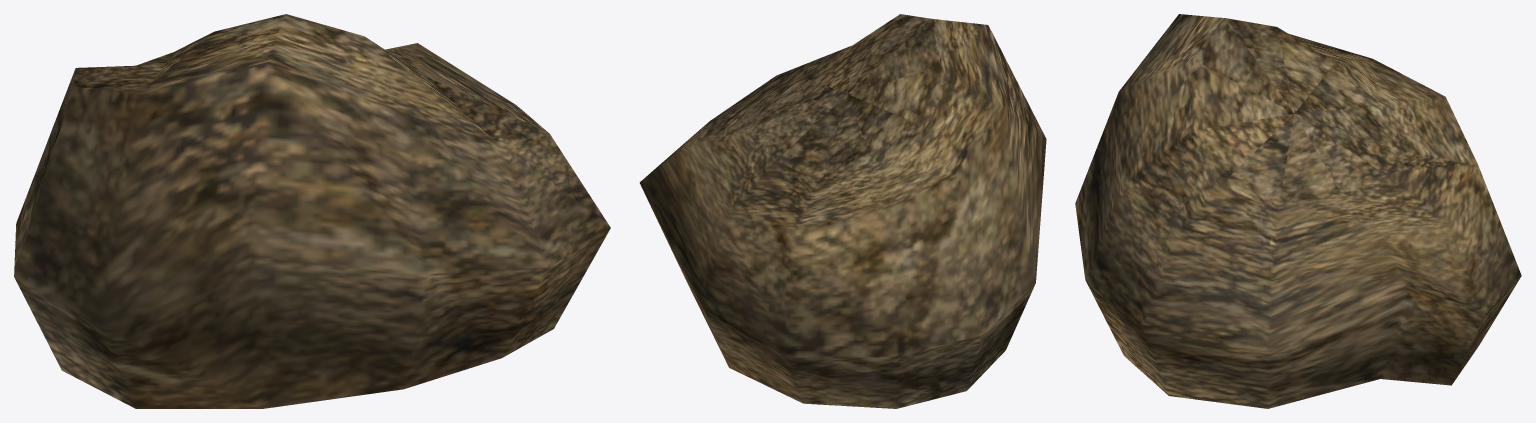
File: CH09_SMAUG_PLAYSURFACE_LONELYMOUNTAIN_LM_PLAYSURFACE10.fbx
3 views of the same model, side by side, from view 1: azimuth 30°, elevation 25°; view 2: azimuth 150°, elevation 25°; view 3: azimuth 270°, elevation 25° (orthographic). The views are drawn at different scales.
Parts seen in each view (by area): view 1: CH09_SMAUG_PLAYSURFACE_LONELYMOUNTAIN_LM_PLAYSURFACE10; view 2: CH09_SMAUG_PLAYSURFACE_LONELYMOUNTAIN_LM_PLAYSURFACE10; view 3: CH09_SMAUG_PLAYSURFACE_LONELYMOUNTAIN_LM_PLAYSURFACE10.
Part boxes in pixels (x1,y1,x2,y2): CH09_SMAUG_PLAYSURFACE_LONELYMOUNTAIN_LM_PLAYSURFACE10: (14,14,610,408); CH09_SMAUG_PLAYSURFACE_LONELYMOUNTAIN_LM_PLAYSURFACE10: (639,14,1046,408); CH09_SMAUG_PLAYSURFACE_LONELYMOUNTAIN_LM_PLAYSURFACE10: (1075,14,1521,408).
Bounding box in the file's own units: 54565 × 42704 × 53580.
1 material, 1 textured.
